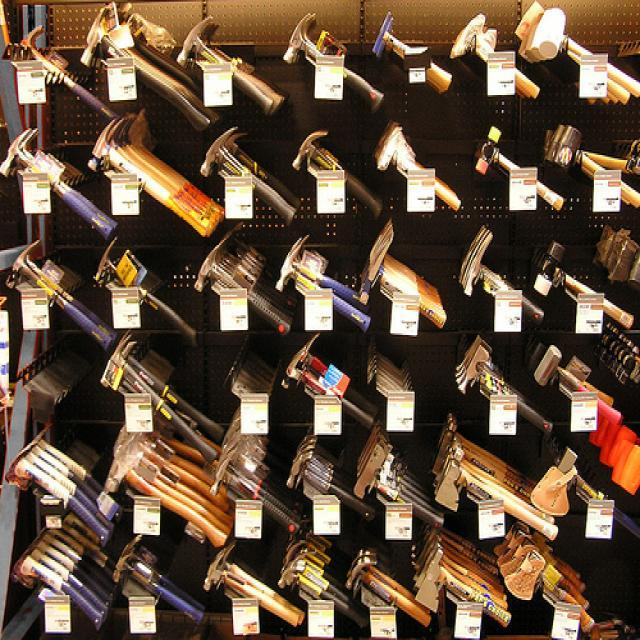hammer: (104, 428, 246, 552), (98, 330, 220, 470), (79, 5, 209, 131), (86, 114, 221, 231), (2, 238, 128, 356), (518, 0, 639, 115), (84, 234, 200, 346), (188, 222, 296, 340), (0, 123, 111, 230), (524, 237, 638, 337), (5, 22, 116, 124), (354, 220, 452, 334), (271, 234, 374, 340), (452, 220, 550, 330), (189, 542, 307, 630), (372, 115, 472, 218), (179, 17, 280, 118), (198, 122, 300, 220), (282, 15, 380, 116), (280, 331, 376, 434), (106, 540, 210, 634), (450, 2, 542, 104), (338, 548, 438, 640), (288, 124, 384, 217), (368, 9, 460, 104), (533, 340, 625, 432), (273, 550, 367, 640), (539, 122, 640, 204), (468, 118, 554, 213)
